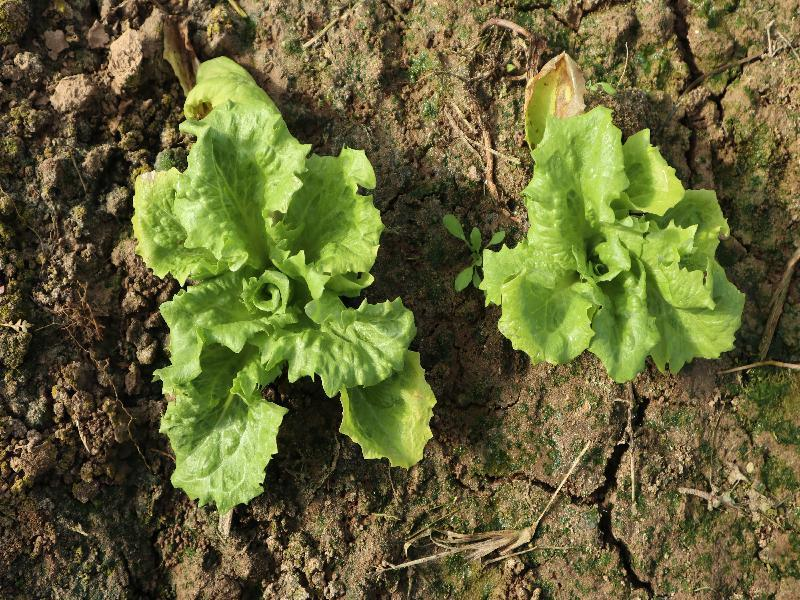lettuce: (131, 54, 438, 515), (479, 103, 749, 383)
